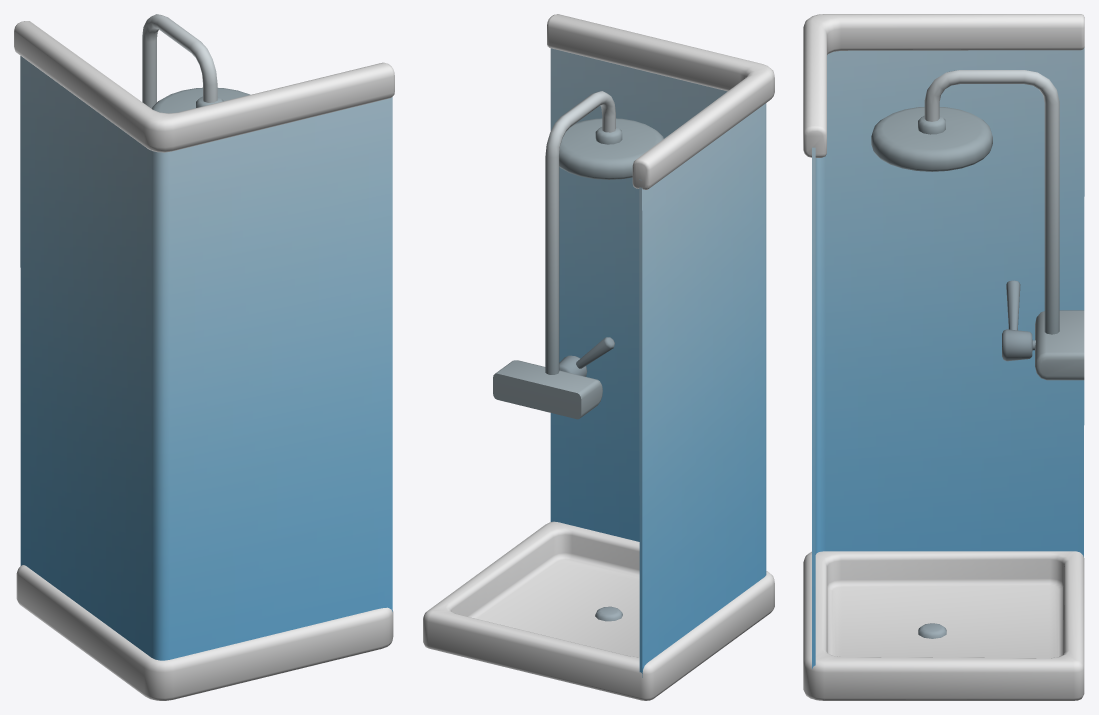
Rendered from Shower_02.glb.
The picture shows the model from 3 angles, left to right: view 1: azimuth 30°, elevation 25°; view 2: azimuth 150°, elevation 25°; view 3: azimuth 270°, elevation 25°; orthographic projection. The views are drawn at different scales.
Parts seen in each view (by area): view 1: Shower_02; view 2: Shower_02; view 3: Shower_02.
Boxes of the visible parts, <box> form: Shower_02: <box>14,14,394,700</box>; Shower_02: <box>423,14,774,700</box>; Shower_02: <box>803,14,1084,700</box>.
Bounding box in the file's own units: 0.8 × 1.8 × 0.8011.
Materials: 2 (2 with a texture image).
